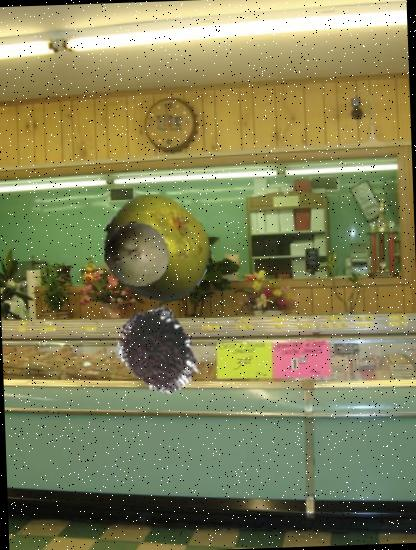Pear: (103, 220, 170, 288)
Pomelo: (101, 192, 214, 305)
Rambutan: (110, 306, 203, 399)
